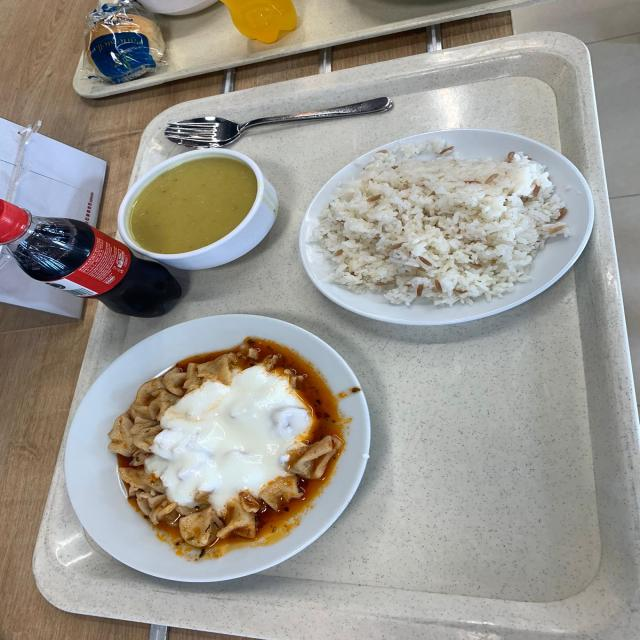ana_yemek: (81, 335, 340, 586), (333, 136, 588, 330)
corba: (129, 143, 272, 287)
